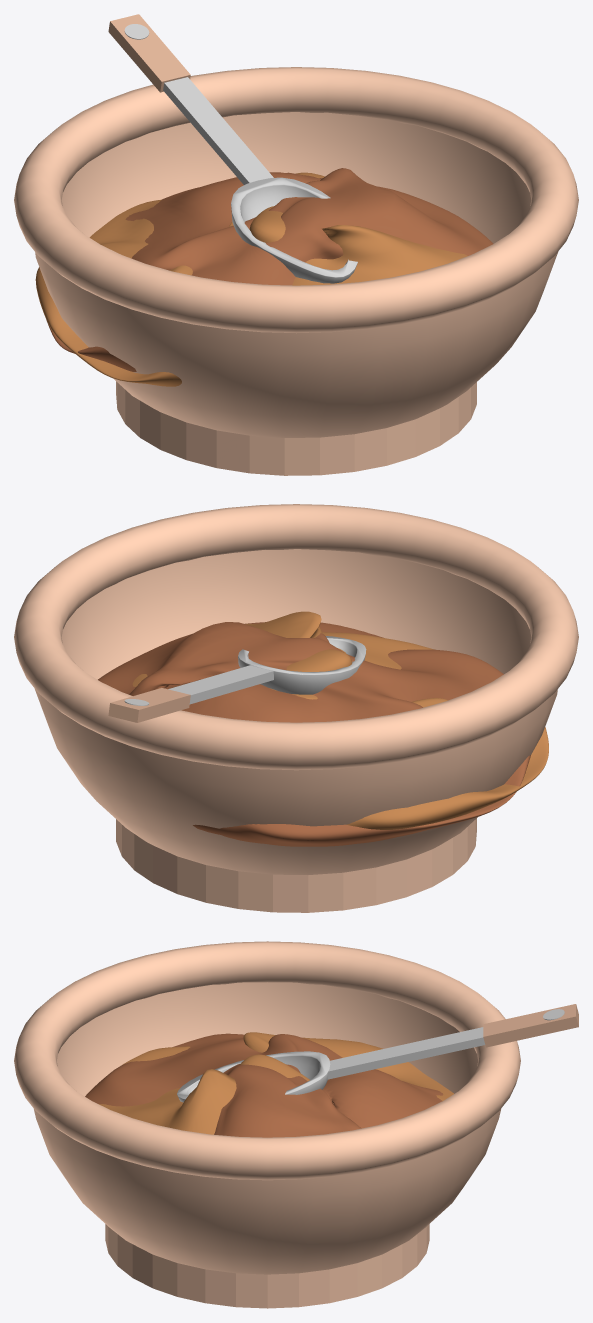
File: chaipohbowl10.fbx
3 renders of one model, top to bottom at view 1: azimuth 30°, elevation 25°; view 2: azimuth 150°, elevation 25°; view 3: azimuth 270°, elevation 25°, orthographic. The views are drawn at different scales.
Parts seen in each view (by area): view 1: Sphere.020, Torus.010, Sphere.022, Cylinder.023, Sphere.021, Sphere.048, Cube.002, Cube.006; view 2: Sphere.020, Torus.010, Sphere.022, Cylinder.023, Sphere.021, Sphere.048, Cube.002, Cube.006; view 3: Sphere.020, Torus.010, Sphere.022, Cylinder.023, Sphere.021, Cube.002, Cube.006, Sphere.048.
Boxes of the visible parts, left/top/right/bottom form: Sphere.020: left=35, top=112, right=558, bottom=437; Torus.010: left=14, top=67, right=578, bottom=333; Sphere.022: left=46, top=168, right=493, bottom=371; Cylinder.023: left=116, top=381, right=476, bottom=475; Sphere.021: left=35, top=172, right=467, bottom=386; Sphere.048: left=231, top=177, right=357, bottom=283; Cube.002: left=163, top=77, right=273, bottom=184; Cube.006: left=108, top=14, right=190, bottom=92; Sphere.020: left=35, top=549, right=557, bottom=874; Torus.010: left=14, top=504, right=578, bottom=770; Sphere.022: left=98, top=622, right=530, bottom=846; Cylinder.023: left=116, top=818, right=476, bottom=912; Sphere.021: left=132, top=611, right=548, bottom=829; Sphere.048: left=238, top=636, right=366, bottom=694; Cube.002: left=168, top=665, right=273, bottom=704; Cube.006: left=108, top=688, right=190, bottom=722; Sphere.020: left=34, top=982, right=500, bottom=1274; Torus.010: left=14, top=941, right=520, bottom=1180; Sphere.022: left=85, top=1033, right=443, bottom=1137; Cylinder.023: left=105, top=1224, right=429, bottom=1308; Sphere.021: left=98, top=1032, right=453, bottom=1134; Cube.002: left=327, top=1027, right=485, bottom=1079; Cube.006: left=483, top=1004, right=578, bottom=1047; Sphere.048: left=177, top=1051, right=330, bottom=1102.
Bounding box in the file's own units: 313 × 169 × 348.
